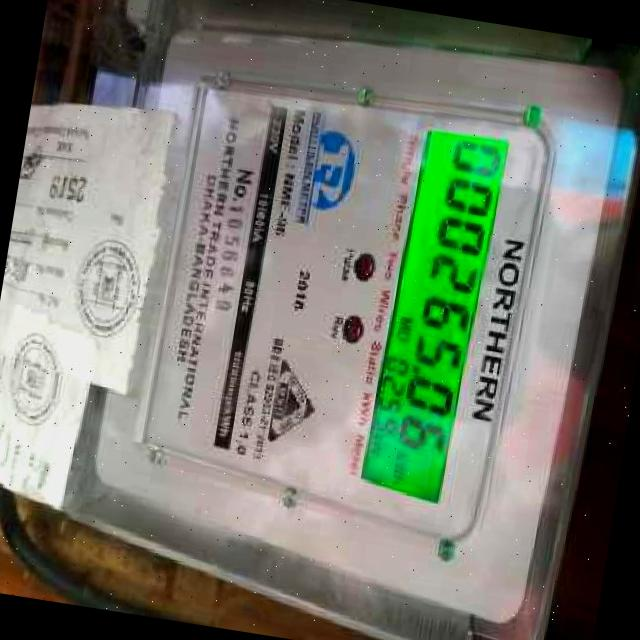LCD: (344, 115, 519, 513)
